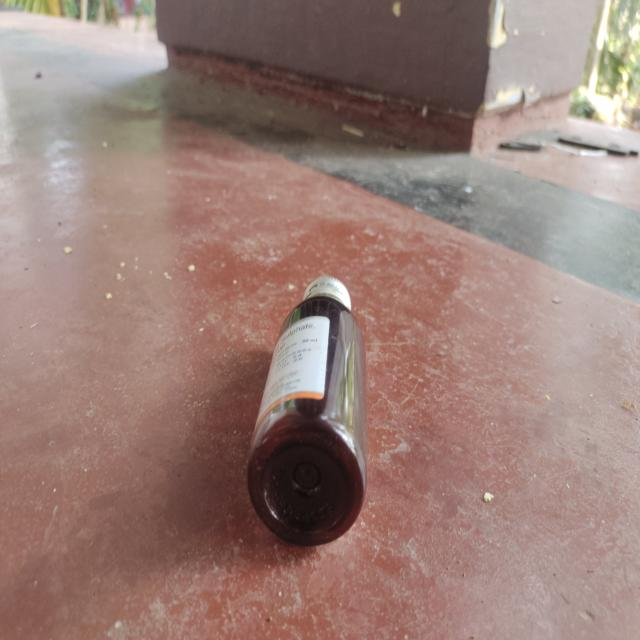plastic: (246, 276, 367, 545)
